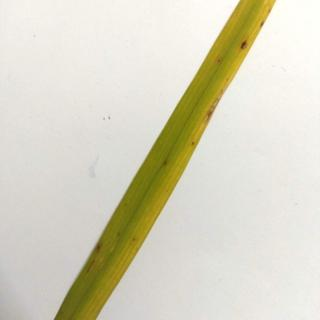bercak-Cokelat: (236, 38, 252, 55)
